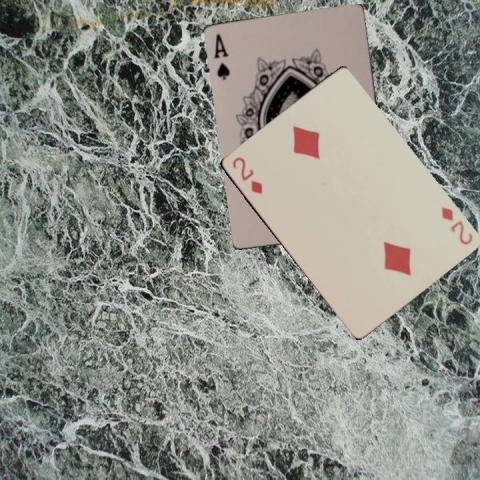2d: (437, 204, 474, 247), (229, 154, 264, 196)
As: (211, 31, 232, 82)
